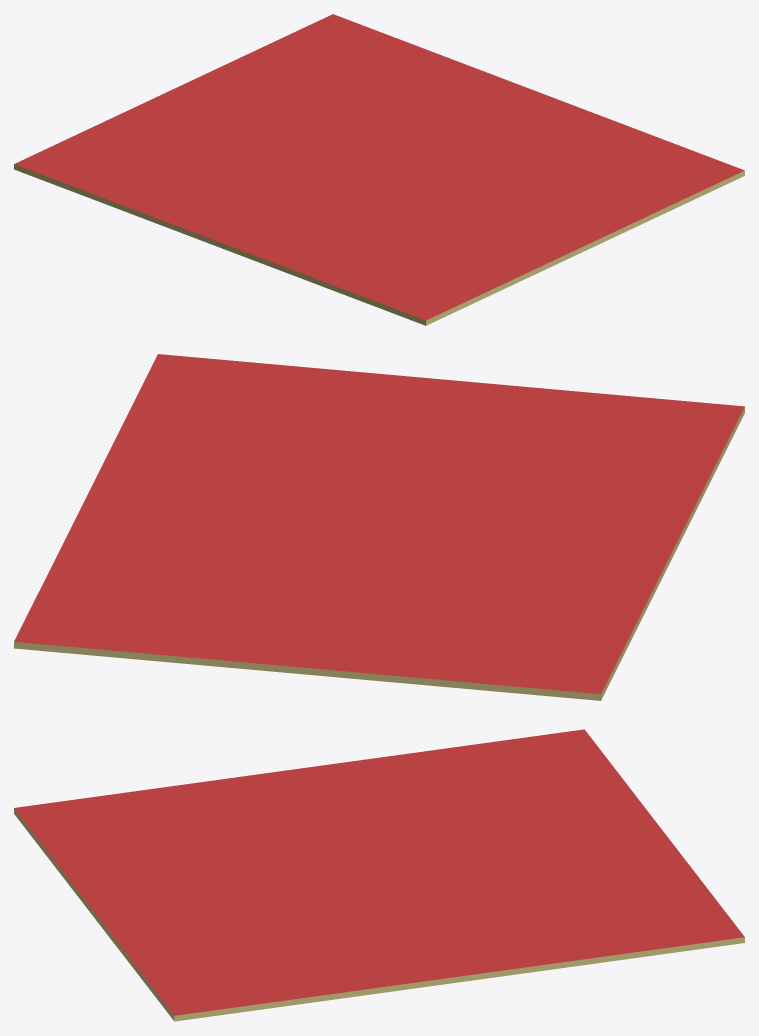
The picture shows the model from 3 angles, top to bottom: view 1: azimuth 30°, elevation 25°; view 2: azimuth 150°, elevation 25°; view 3: azimuth 270°, elevation 25°; orthographic projection. The views are drawn at different scales.
Size of the model in its own units: 10.61 by 11.44 by 0.1.
